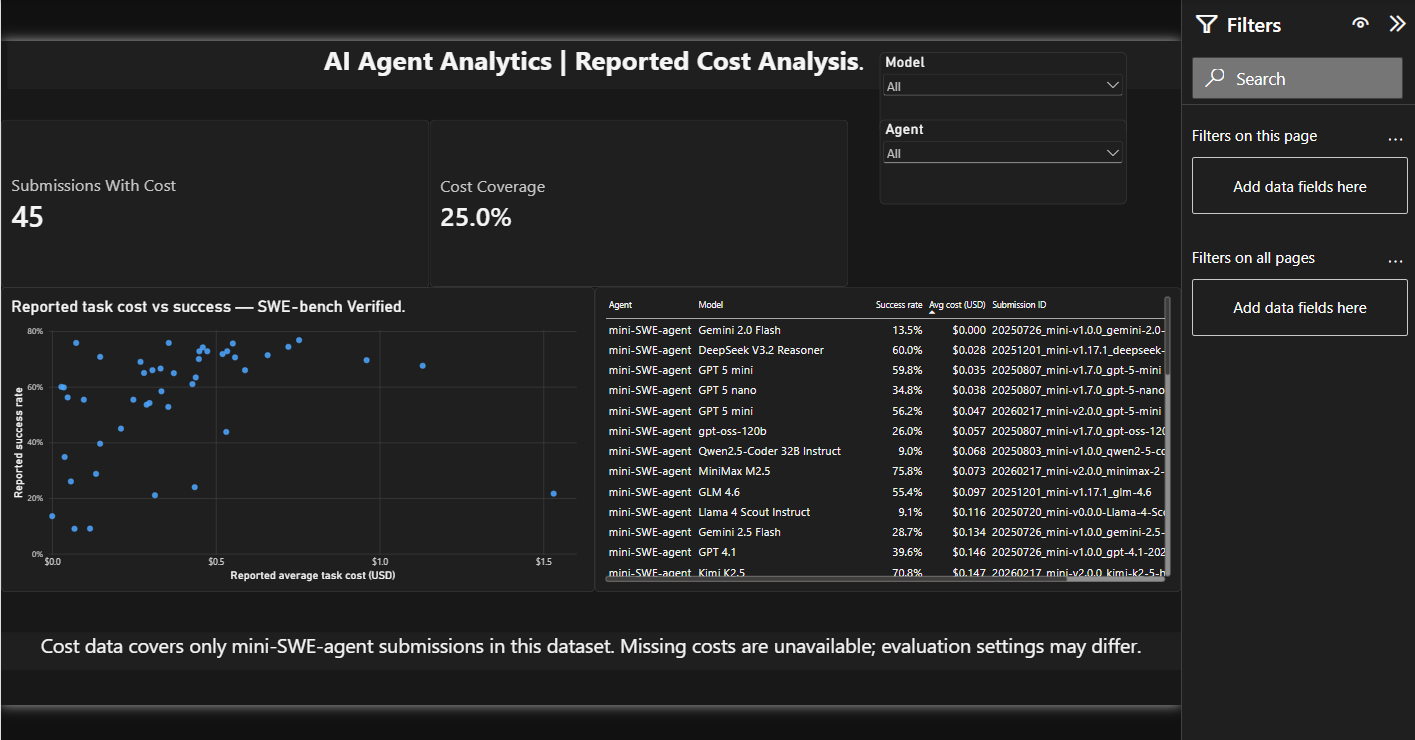

The page's visual inventory and layout, read from the dashboard file:
{"tool":"powerbi","page":{"name":"Cost Analysis.","canvas":[1920,1080],"ordinal":1},"visuals":[{"type":"textbox","box":[10.3,0,1910.1,78.2],"z":0},{"type":"cardVisual","fields":{"Data":["reliability_dashboard.Cost Coverage"]},"box":[697.8,128.2,681.5,272.6],"z":1000},{"type":"cardVisual","fields":{"Data":["verified_dashboard.Submissions With Cost"]},"box":[0,128.2,697.8,274.6],"z":2000},{"type":"scatterChart","title":"Reported task cost vs success — SWE-bench Verified.","fields":{"Category":["verified_dashboard.submission_id"],"X":["Max(verified_dashboard.avg_reported_task_cost_usd)"],"Y":["Max(verified_dashboard.success_rate)"]},"box":[0,400.8,966.3,496.4],"z":3000},{"type":"tableEx","fields":{"Values":["verified_dashboard.agent_name","verified_dashboard.model_name","verified_dashboard.success_rate","verified_dashboard.avg_reported_task_cost_usd","verified_dashboard.submission_id"]},"box":[966.3,400.8,954.1,496.4],"z":4000},{"type":"textbox","box":[0,961.2,1920.4,61.7],"z":7000},{"type":"slicer","fields":{"Values":["verified_dashboard.model_name"]},"box":[1430.5,18.5,401.4,131.7],"z":7001},{"type":"slicer","fields":{"Values":["verified_dashboard.agent_name"]},"box":[1430.5,127.6,401.4,137.9],"z":7002}]}

Visuals, with their boxes on the page's 1920x1080 design canvas (x1, y1, x2, y2). These are canvas units, not pixel positions in the 1415x740 screenshot, which may show the page scaled, cropped or inside an application window:
textbox: left=10, top=0, right=1920, bottom=78
cardVisual - reliability_dashboard.Cost Coverage: left=698, top=128, right=1379, bottom=401
cardVisual - verified_dashboard.Submissions With Cost: left=0, top=128, right=698, bottom=403
"Reported task cost vs success — SWE-bench Verified." scatterChart: left=0, top=401, right=966, bottom=897
tableEx - verified_dashboard.agent_name x verified_dashboard.model_name: left=966, top=401, right=1920, bottom=897
textbox: left=0, top=961, right=1920, bottom=1023
slicer - verified_dashboard.model_name: left=1430, top=18, right=1832, bottom=150
slicer - verified_dashboard.agent_name: left=1430, top=128, right=1832, bottom=266
